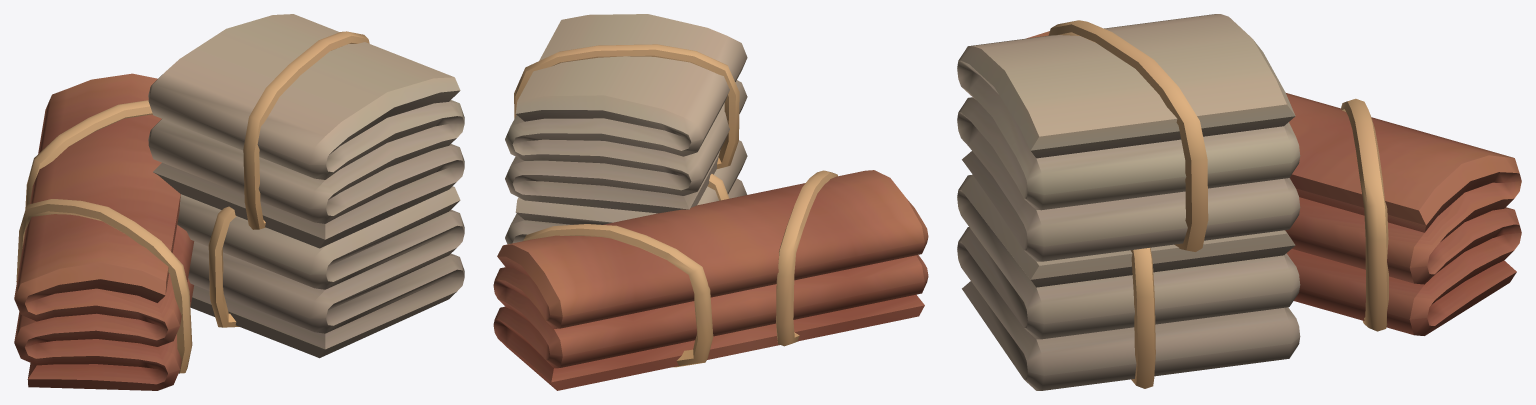
File: Textiles_Stack_Small.glb
3 views of the same model, side by side, from view 1: azimuth 30°, elevation 25°; view 2: azimuth 150°, elevation 25°; view 3: azimuth 270°, elevation 25° (orthographic). The views are drawn at different scales.
Parts seen in each view (by area): view 1: Textiles_Stack_Small; view 2: Textiles_Stack_Small; view 3: Textiles_Stack_Small.
Part boxes in pixels (box(x1,y1,x2,y2)): Textiles_Stack_Small: box(14, 14, 464, 390); Textiles_Stack_Small: box(493, 14, 928, 390); Textiles_Stack_Small: box(957, 14, 1521, 390).
Bounding box in the file's own units: 1.66 × 0.9318 × 1.59.
Materials: 1 (1 with a texture image).
